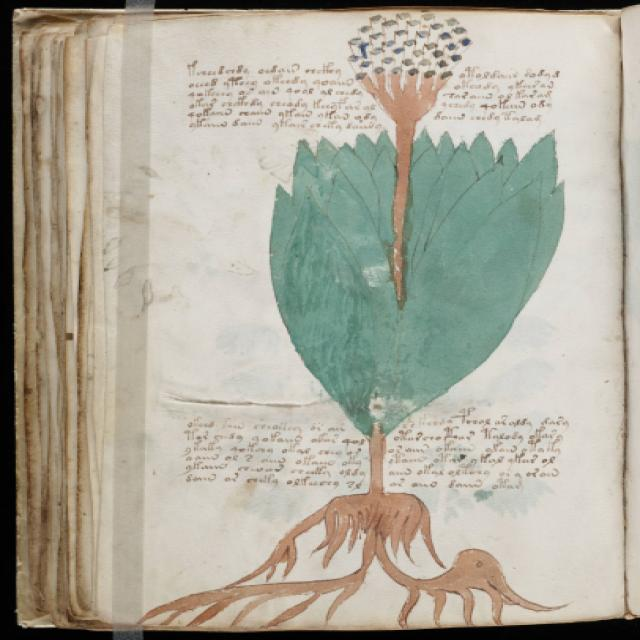plant: (136, 11, 584, 628)
